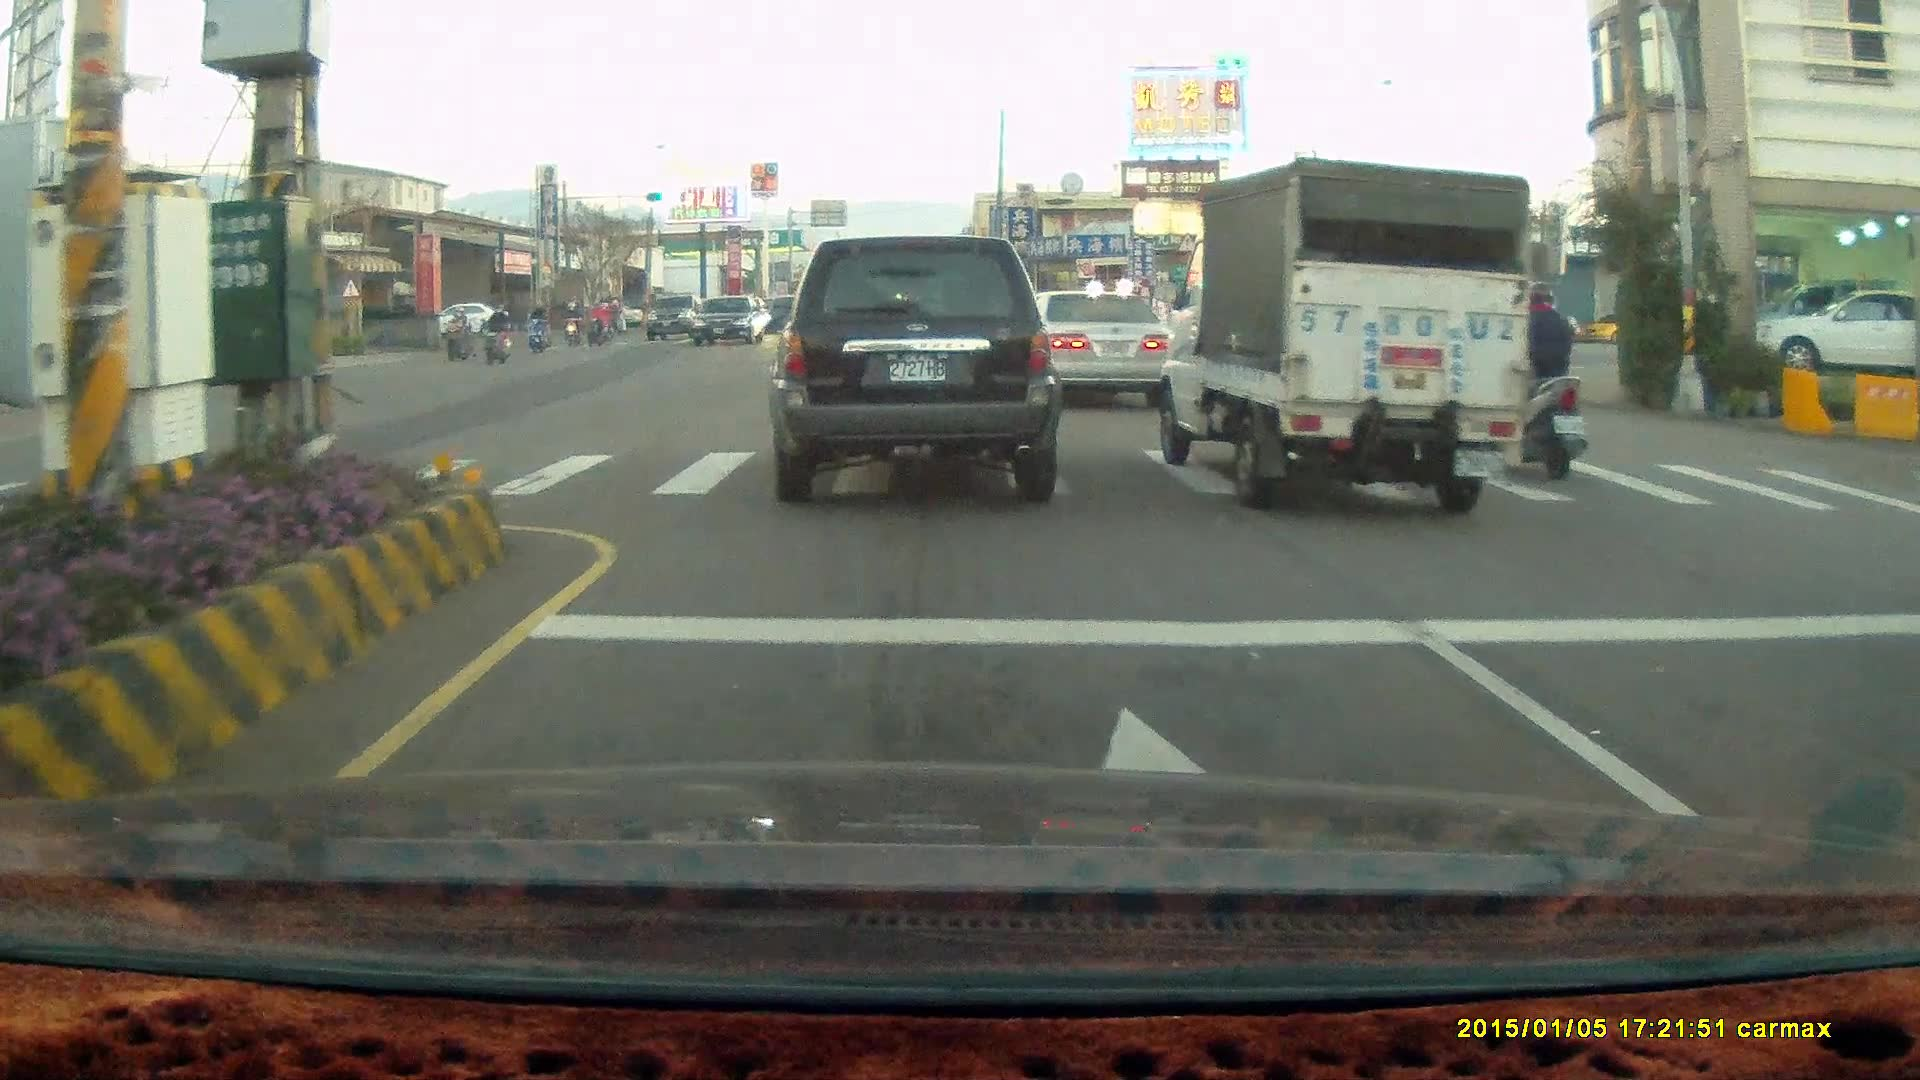rider: (1465, 281, 1591, 486), (441, 303, 478, 363), (482, 309, 511, 363), (525, 297, 551, 353), (557, 296, 582, 342), (588, 296, 608, 343)
vehicle: (1156, 156, 1530, 515), (766, 234, 1061, 508), (1008, 288, 1172, 405), (1034, 290, 1176, 413), (1752, 284, 1920, 376), (1762, 286, 1916, 379), (54, 314, 158, 393), (691, 295, 766, 349), (438, 302, 513, 340)
